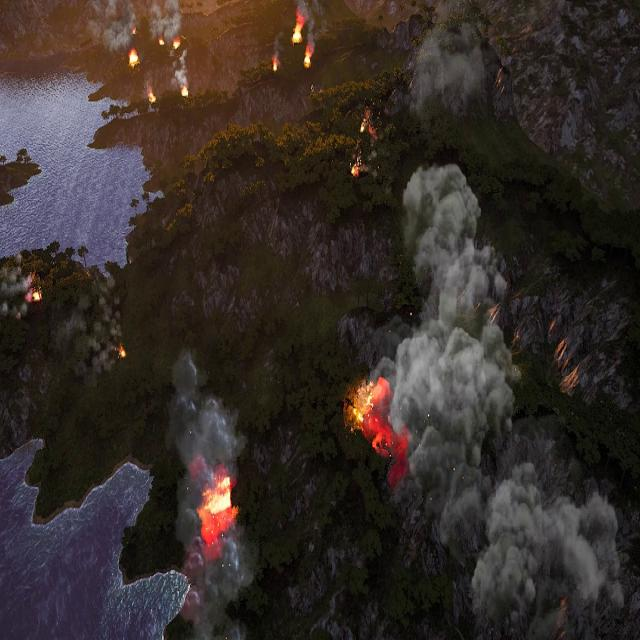fire: (198, 474, 236, 544), (349, 376, 390, 430), (360, 117, 374, 137), (290, 22, 302, 44), (29, 288, 42, 302), (351, 161, 360, 178), (305, 49, 313, 68), (130, 50, 139, 66), (117, 344, 126, 359), (147, 92, 156, 105), (173, 37, 181, 50), (273, 58, 279, 73), (181, 87, 188, 98), (160, 36, 166, 46), (131, 28, 137, 34)
smoke: (374, 160, 628, 632), (164, 346, 245, 635), (412, 23, 487, 112), (88, 0, 137, 52), (0, 257, 32, 319), (294, 0, 321, 51), (150, 0, 182, 40), (173, 51, 189, 89), (273, 32, 281, 58)
